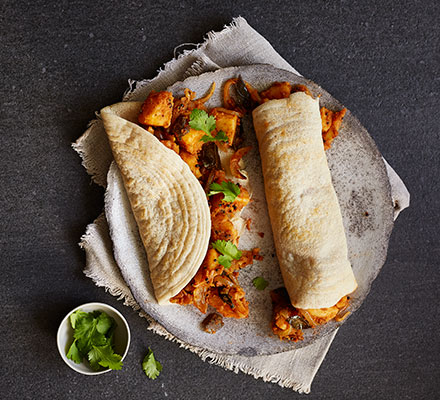dosa: (91, 89, 374, 337)
